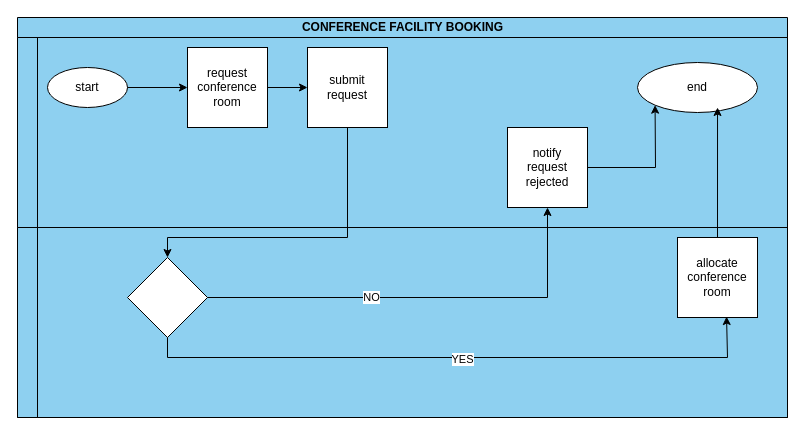
Some shapes in this 805 by 435 pixel diagram are drawn without their labels. Here are the shapes that lost their labels. From the top down, the box of each, then its label:
(16, 36, 788, 228): DIRECTOR / HEAD
(126, 256, 208, 338): accept request ?
(16, 226, 788, 418): DAHRM
